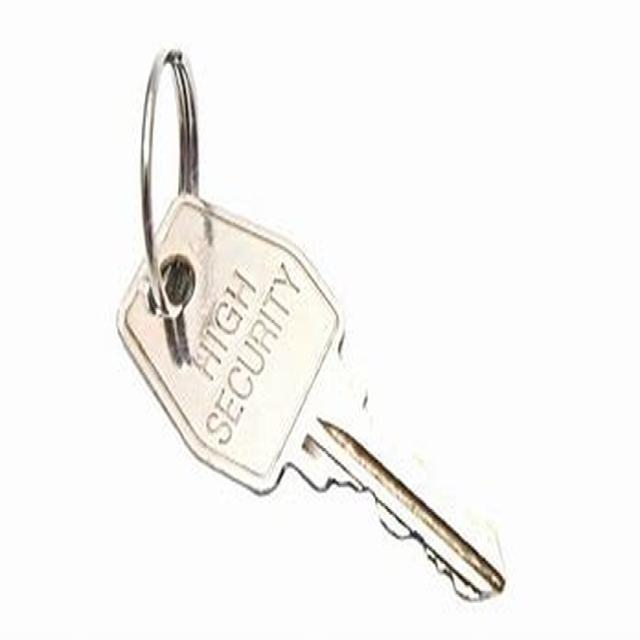key: (126, 119, 494, 600)
